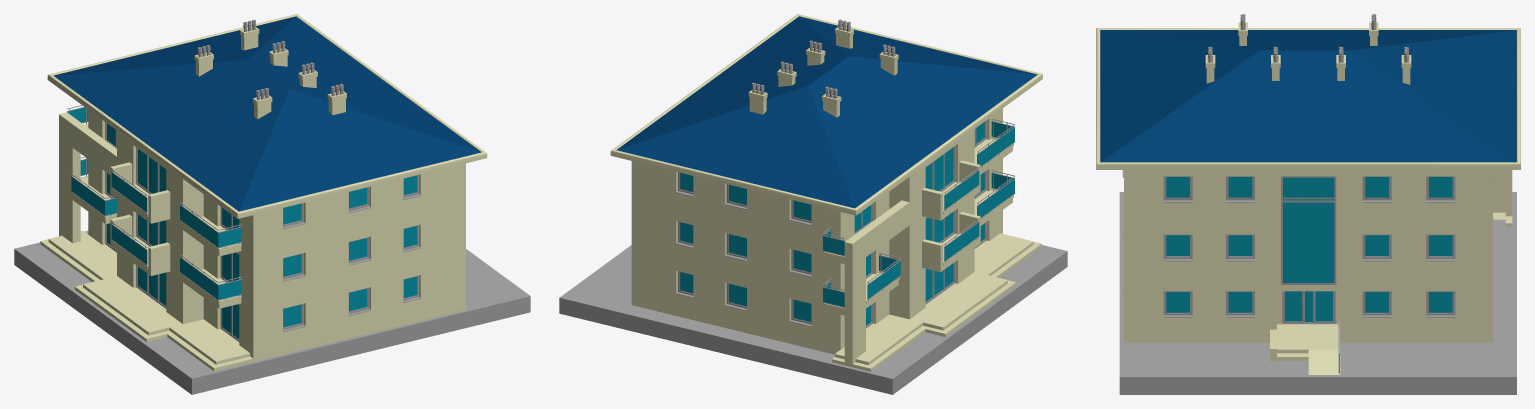
File: cry_hotel_01_dylan.fbx
3 views of the same model, side by side, from view 1: azimuth 30°, elevation 25°; view 2: azimuth 150°, elevation 25°; view 3: azimuth 270°, elevation 25° (orthographic). The views are drawn at different scales.
Visible parts, largest first — view 1: pCube18; view 2: pCube18; view 3: pCube18.
Part boxes in pixels (left/top/right/bottom): pCube18: left=14, top=14, right=530, bottom=394; pCube18: left=559, top=14, right=1067, bottom=394; pCube18: left=1096, top=14, right=1520, bottom=394.
Bounding box in the file's own units: 1965 × 1297 × 1909.
